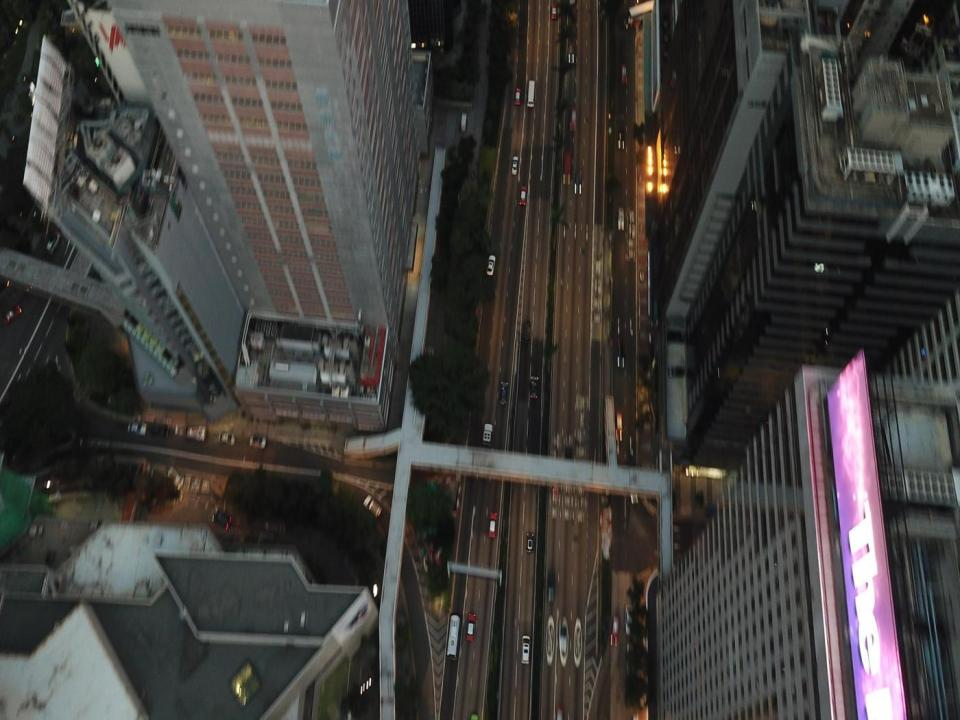car: (212, 509, 231, 529), (4, 304, 22, 324), (626, 477, 638, 504), (625, 604, 635, 634), (465, 614, 476, 641), (127, 421, 146, 436), (610, 614, 618, 647), (150, 424, 169, 437), (616, 337, 624, 367), (249, 435, 267, 448), (560, 618, 567, 650), (522, 636, 530, 663), (218, 432, 235, 444), (500, 381, 508, 406), (530, 374, 538, 398), (564, 447, 572, 471), (574, 170, 582, 193), (489, 512, 496, 538), (486, 255, 495, 275), (522, 320, 530, 342), (617, 209, 624, 230), (568, 44, 575, 64), (519, 186, 526, 205), (526, 533, 533, 552), (622, 63, 628, 84), (571, 108, 576, 132), (618, 131, 625, 148), (512, 156, 518, 175), (554, 708, 563, 719), (550, 5, 556, 20), (515, 88, 520, 105)
truck: (447, 614, 460, 659), (562, 151, 571, 185), (482, 423, 493, 446), (527, 79, 535, 107)
van: (46, 231, 60, 252), (614, 410, 622, 441)
